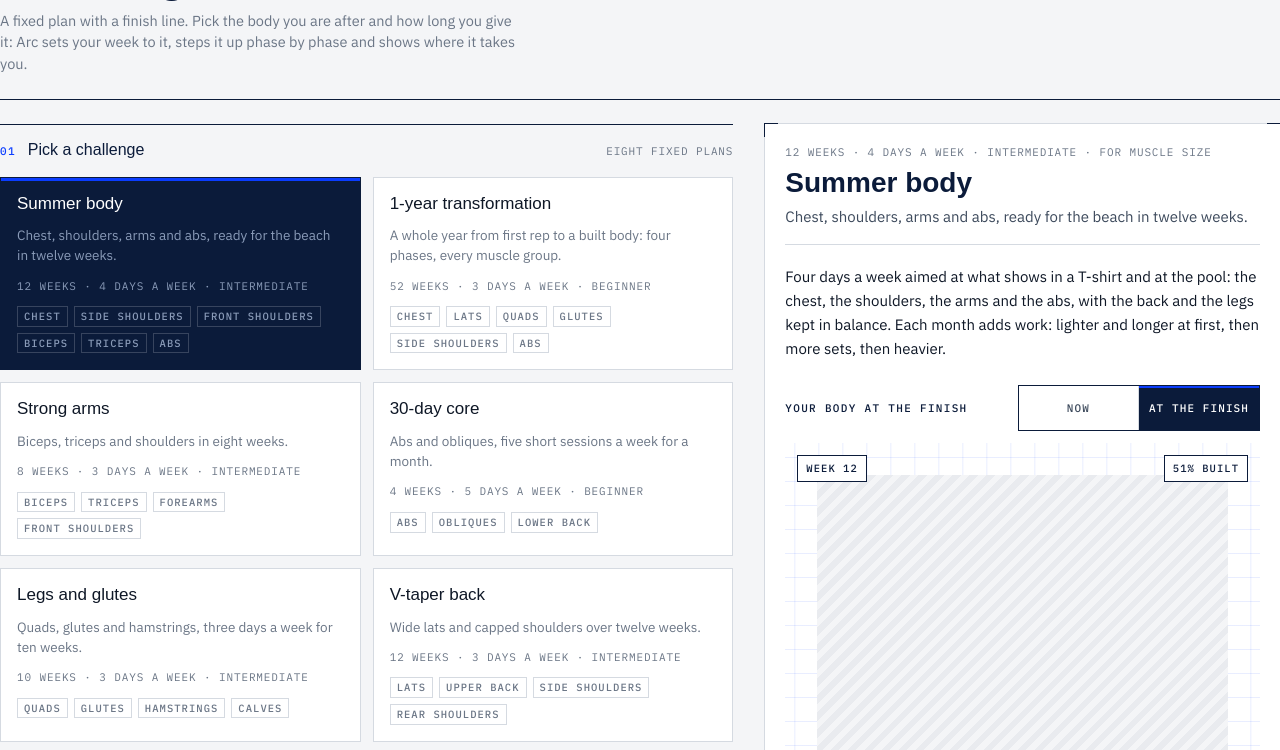
ChallengesPage › opens the one picked: its phases, and the week its first phase trains
Click the button labelled "V-taper back" at point(553, 655), box top-left (373, 568), bottom-right (733, 742)
(page scrolled)
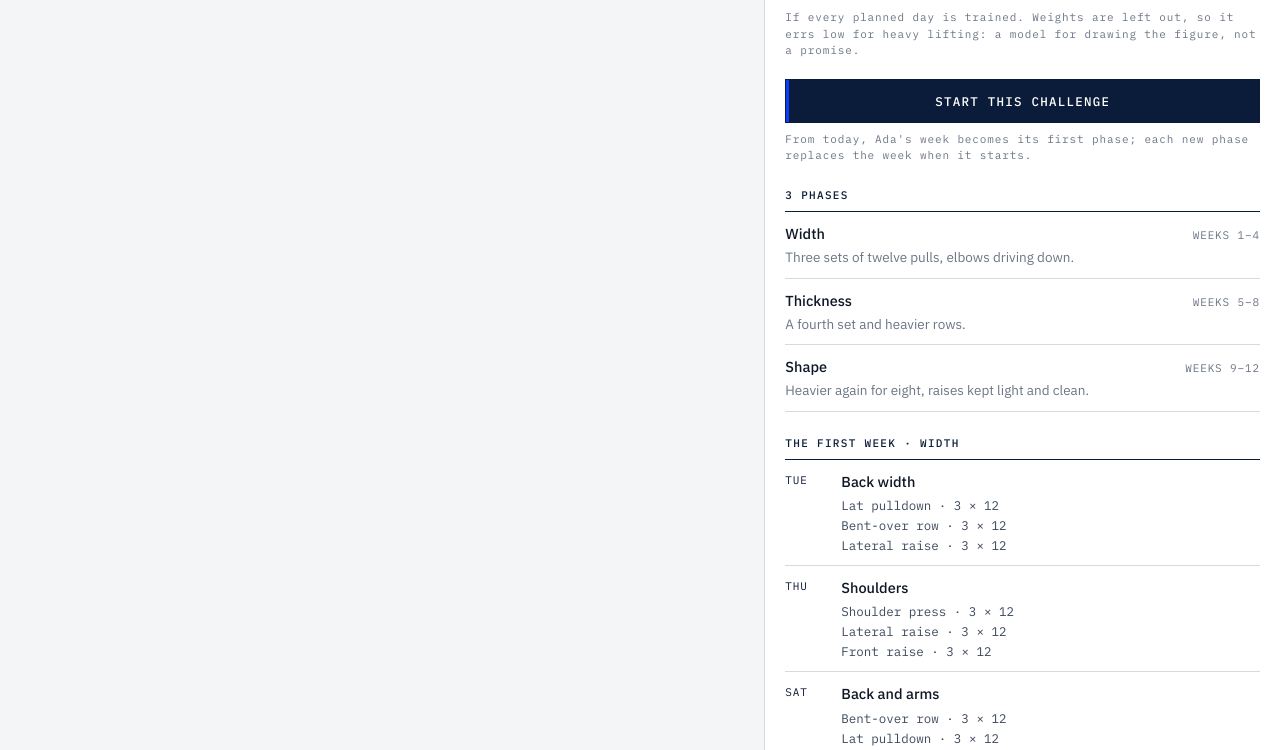
Now the list item that starts with "Width" is shown, box top-left (785, 224), bottom-right (825, 243)
Now the list item that starts with "Shape" is shown, box top-left (785, 357), bottom-right (827, 376)
Now the text "Back width" is shown, box top-left (841, 472), bottom-right (915, 491)
